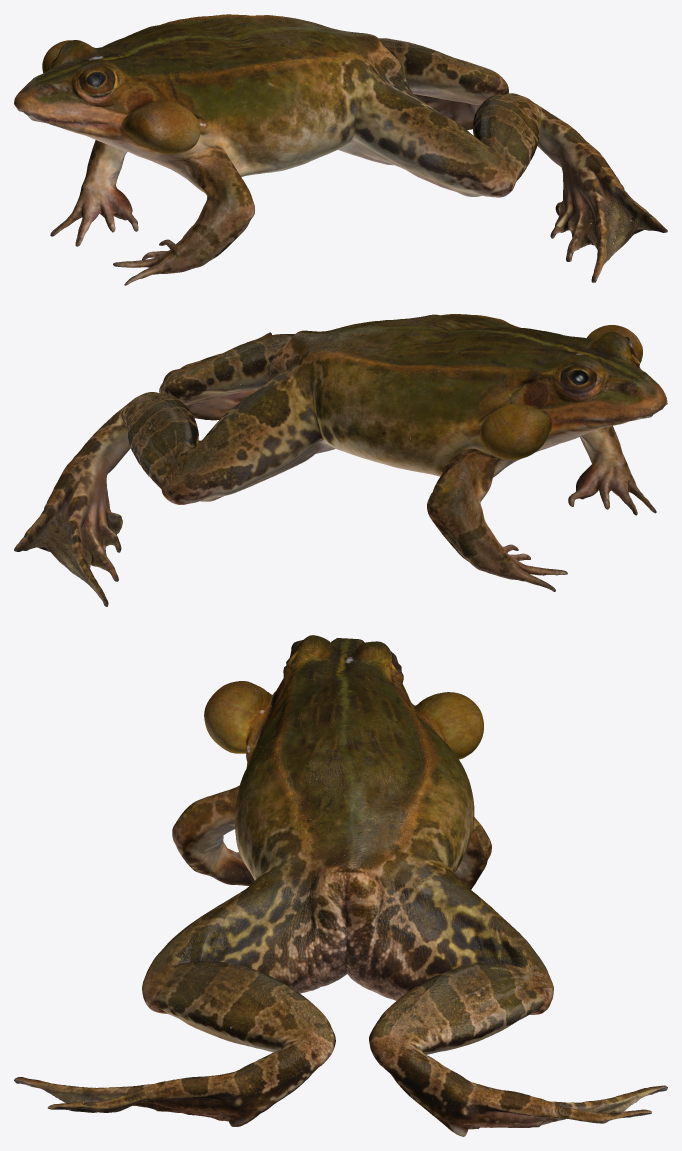
File: frog.glb
3 renders of one model, top to bottom at view 1: azimuth 30°, elevation 25°; view 2: azimuth 150°, elevation 25°; view 3: azimuth 270°, elevation 25°, orthographic. The views are drawn at different scales.
Visible parts, largest first — view 1: Object_6, Object_11; view 2: Object_6, Object_11; view 3: Object_6, Object_11.
Part boxes in pixels (bbox=[...]): Object_6: bbox=[15, 14, 667, 284]; Object_11: bbox=[14, 14, 667, 285]; Object_6: bbox=[14, 314, 667, 606]; Object_11: bbox=[14, 314, 667, 605]; Object_6: bbox=[14, 635, 667, 1136]; Object_11: bbox=[14, 635, 667, 1135].
Size of the model in its own units: 1 by 0.435 by 0.9446.
Materials: 2 (2 with a texture image).
